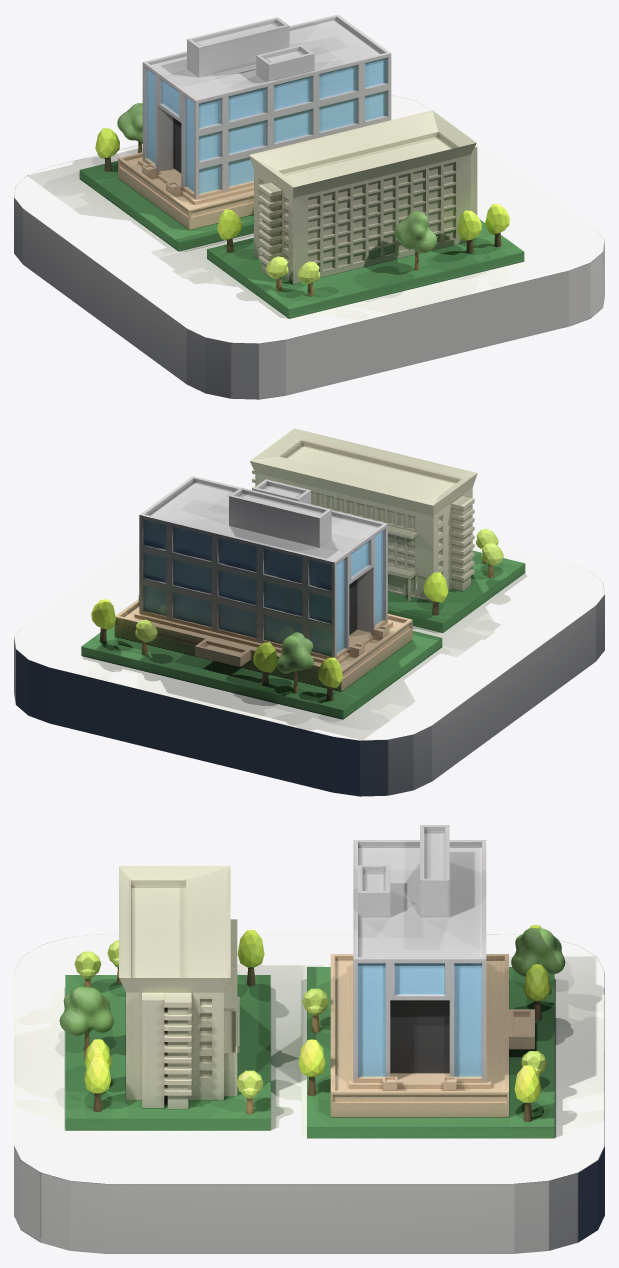
3 views of the same model, one above another, from view 1: azimuth 30°, elevation 25°; view 2: azimuth 150°, elevation 25°; view 3: azimuth 270°, elevation 25° (orthographic). The views are drawn at different scales.
Parts seen in each view (by area): view 1: Cube.001, 生科學院1, Plane.004, Cylinder.056; view 2: Cube.001, 生科學院1, Plane.004, Cylinder.056; view 3: Cube.001, 生科學院1, Plane.004, Cylinder.056.
Part boxes in pixels (<box>): Cube.001: <box>14,95,604,399</box>; 生科學院1: <box>118,14,477,284</box>; Plane.004: <box>79,160,524,318</box>; Cylinder.056: <box>95,103,509,296</box>; Cube.001: <box>14,540,604,796</box>; 生科學院1: <box>114,428,477,691</box>; Plane.004: <box>81,550,525,719</box>; Cylinder.056: <box>91,528,503,701</box>; Cube.001: <box>14,934,604,1253</box>; 生科學院1: <box>119,825,534,1117</box>; Plane.004: <box>65,967,554,1138</box>; Cylinder.056: <box>59,925,565,1121</box>.
Size of the model in its own units: 13 by 6.39 by 13.
Materials: 12 (12 with a texture image).
